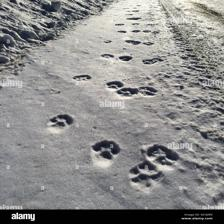wolf: (89, 140, 121, 164)
